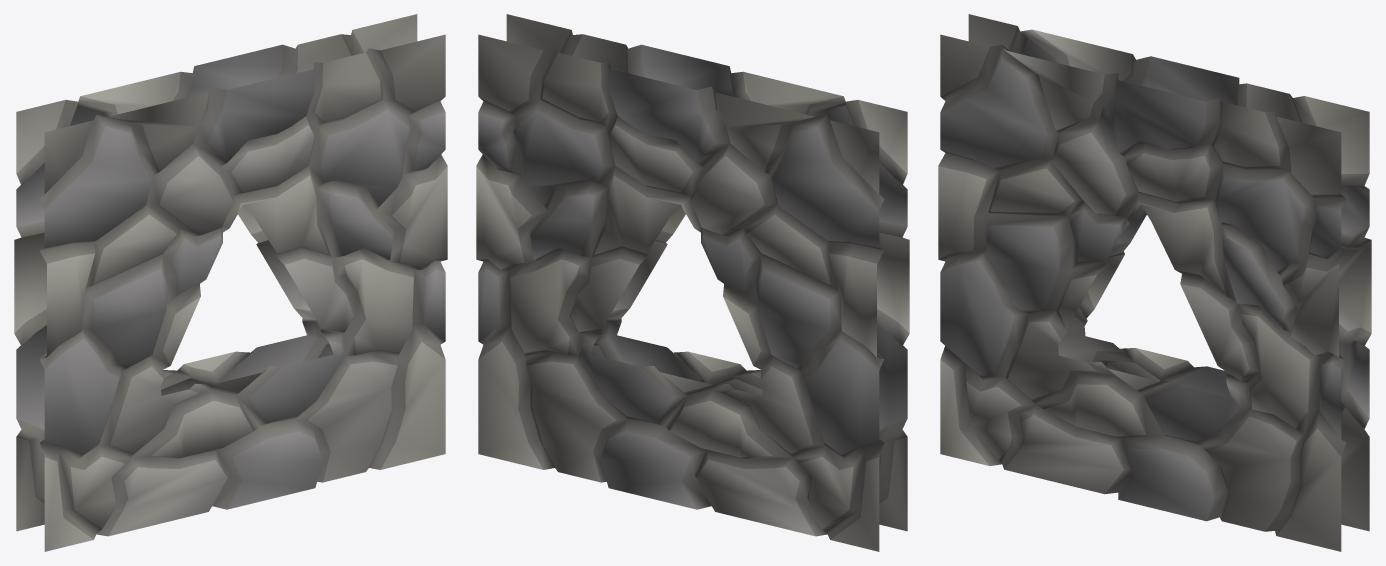
The model's file is rpgpp_ag_wall_03_3x3_window_e.fbx.
The picture shows the model from 3 angles, left to right: view 1: azimuth 30°, elevation 25°; view 2: azimuth 150°, elevation 25°; view 3: azimuth 330°, elevation 25°; orthographic projection.
Visible parts, largest first — view 1: rpgpp_ag_wall_03_3x3_window_e; view 2: rpgpp_ag_wall_03_3x3_window_e; view 3: rpgpp_ag_wall_03_3x3_window_e.
Part boxes in pixels (x1,y1,x2,y2): rpgpp_ag_wall_03_3x3_window_e: (14,14,447,551); rpgpp_ag_wall_03_3x3_window_e: (476,14,909,551); rpgpp_ag_wall_03_3x3_window_e: (938,14,1371,551).
Bounding box in the file's own units: 3 × 3 × 0.4237.
